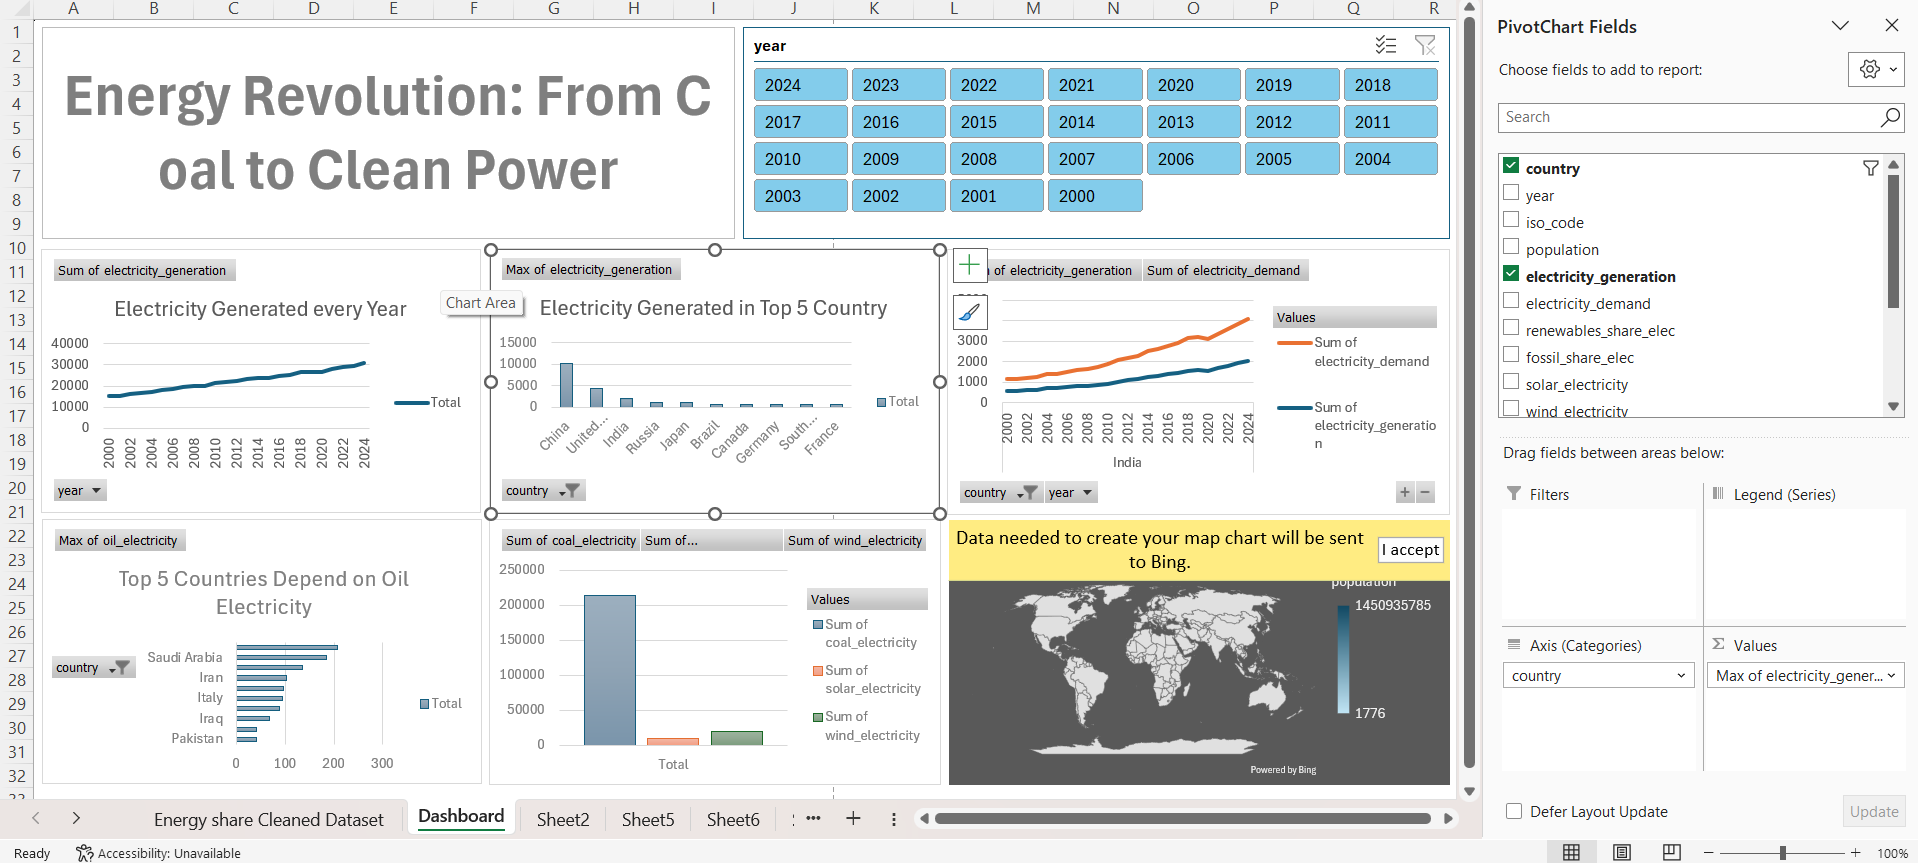

Layout of this report page (visuals, bound fields, positions):
{"tool":"powerbi","page":{"name":"Page 1","canvas":[1280,720],"ordinal":0},"visuals":[{"type":"filledMap","title":"Country","fields":{"Category":["Energy share Cleaned Dataset.country"]},"box":[943.1,408.3,326.4,300],"z":0},{"type":"cardVisual","fields":{"Data":["Count(Energy share Cleaned Dataset.country)","Count(Energy share Cleaned Dataset.year)","Sum(Energy share Cleaned Dataset.electricity_demand)","Sum(Energy share Cleaned Dataset.electricity_generation)"]},"box":[9.7,125,323.6,583.3],"z":1000},{"type":"areaChart","title":"Coal Electricity vs Wind Electricity vs Solar Electricity by Year","fields":{"Y":["Sum(Energy share Cleaned Dataset.coal_electricity)","Sum(Energy share Cleaned Dataset.wind_electricity)","Sum(Energy share Cleaned Dataset.solar_electricity)"],"Category":["Energy share Cleaned Dataset.year"]},"box":[629.2,408.3,302.8,300],"z":2000},{"type":"columnChart","title":"Top 5 Country Generates Highest Electricity","fields":{"Category":["Energy share Cleaned Dataset.country"],"Y":["Sum(Energy share Cleaned Dataset.electricity_generation)"]},"box":[814,125.6,227.9,273.3],"z":3000},{"type":"textbox","box":[9.7,11.1,1259.7,102.8],"z":4000},{"type":"lineStackedColumnComboChart","title":"Top 5 Country Using Solar Energy More","fields":{"Category":["Energy share Cleaned Dataset.country"],"Y2":["Sum(Energy share Cleaned Dataset.solar_electricity)","Sum(Energy share Cleaned Dataset.wind_electricity)"],"Y":["Sum(Energy share Cleaned Dataset.electricity_generation)"]},"box":[577.9,125.6,225.6,272.1],"z":5000},{"type":"areaChart","title":"Electricity Generated in each Year","fields":{"Category":["Energy share Cleaned Dataset.year"],"Y":["Sum(Energy share Cleaned Dataset.electricity_generation)"]},"box":[343,124.4,225.6,273.3],"z":6000},{"type":"barChart","title":"Countries that Highly Dependent on Oil for Electricity","fields":{"Category":["Energy share Cleaned Dataset.country"],"Y":["Sum(Energy share Cleaned Dataset.oil_electricity)"]},"box":[1051.2,124.4,218.6,273.3],"z":7000},{"type":"pieChart","title":"Electricity Generated v/s Electricity Demand","fields":{"Y":["Sum(Energy share Cleaned Dataset.electricity_generation)","Sum(Energy share Cleaned Dataset.electricity_demand)"]},"box":[343,408.1,276.7,300],"z":7001}]}

Visuals, with their boxes on the page's 1280x720 design canvas (x1, y1, x2, y2). These are canvas units, not pixel positions in the 1918x863 screenshot, which may show the page scaled, cropped or inside an application window:
"Country" filledMap: 943, 408, 1270, 708
cardVisual - Count(Energy share Cleaned Dataset.country) x Count(Energy share Cleaned Dataset.year): 10, 125, 333, 708
"Coal Electricity vs Wind Electricity vs Solar Electricity by Year" areaChart: 629, 408, 932, 708
"Top 5 Country Generates Highest Electricity" columnChart: 814, 126, 1042, 399
textbox: 10, 11, 1269, 114
"Top 5 Country Using Solar Energy More" lineStackedColumnComboChart: 578, 126, 804, 398
"Electricity Generated in each Year" areaChart: 343, 124, 569, 398
"Countries that Highly Dependent on Oil for Electricity" barChart: 1051, 124, 1270, 398
"Electricity Generated v/s Electricity Demand" pieChart: 343, 408, 620, 708
